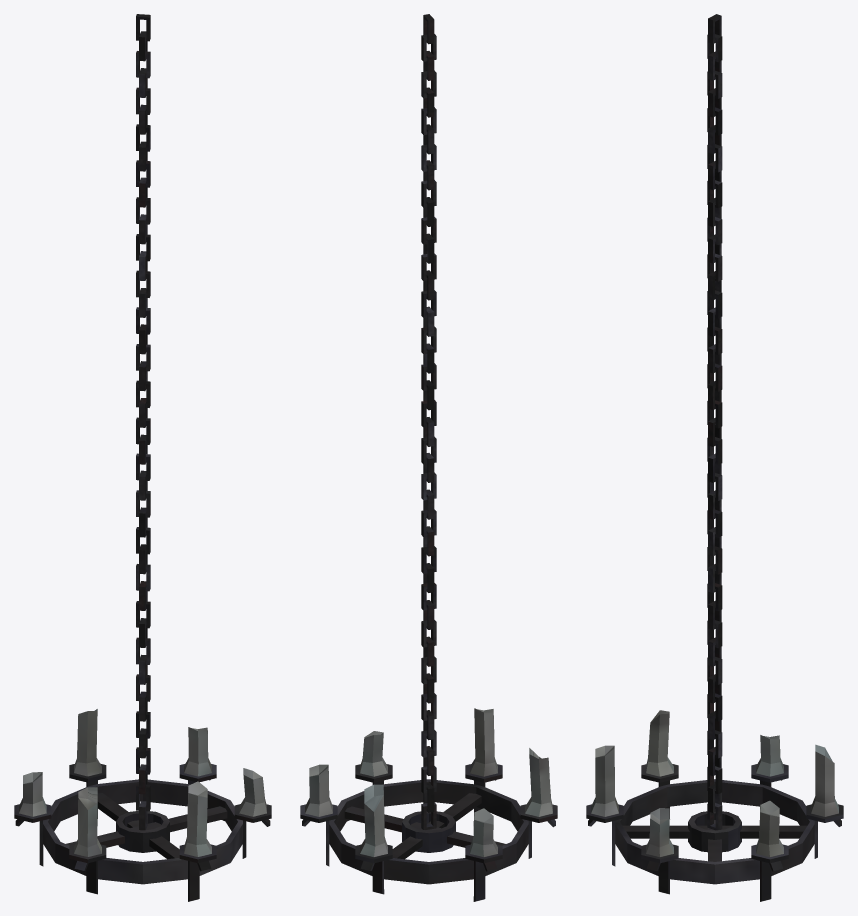
File: Chandelier Small.fbx
3 renders of one model, left to right at view 1: azimuth 30°, elevation 25°; view 2: azimuth 150°, elevation 25°; view 3: azimuth 270°, elevation 25°, orthographic.
Parts seen in each view (by area): view 1: Chandelier_Small; view 2: Chandelier_Small; view 3: Chandelier_Small.
Part boxes in pixels (left/top/right/bottom): Chandelier_Small: left=14, top=14, right=271, bottom=901; Chandelier_Small: left=300, top=14, right=557, bottom=901; Chandelier_Small: left=586, top=14, right=843, bottom=901.
Bounding box in the file's own units: 463 × 1855 × 510.
Materials: 1 (1 with a texture image).
